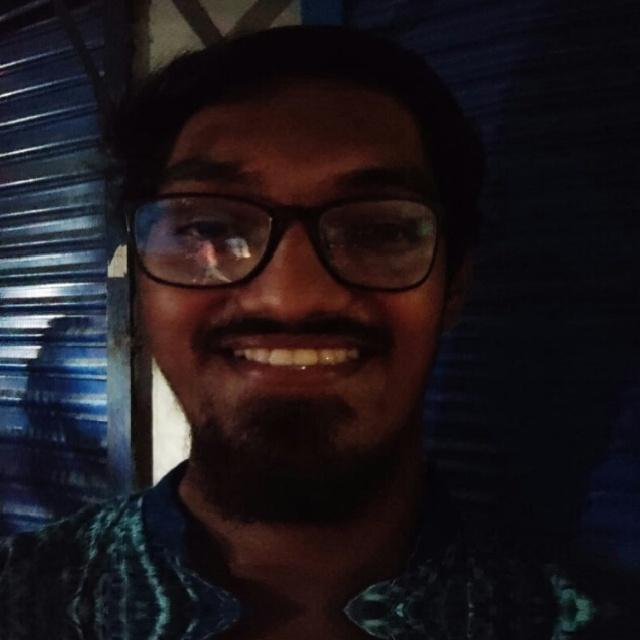Happy: (107, 82, 474, 508)
